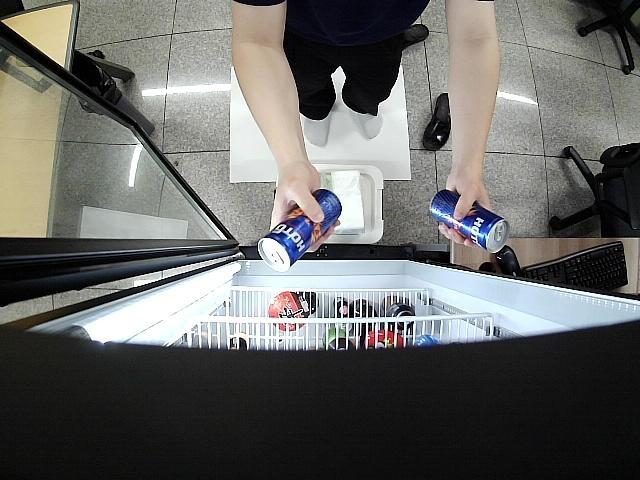16_hot6: (257, 188, 341, 272), (428, 188, 508, 253)
